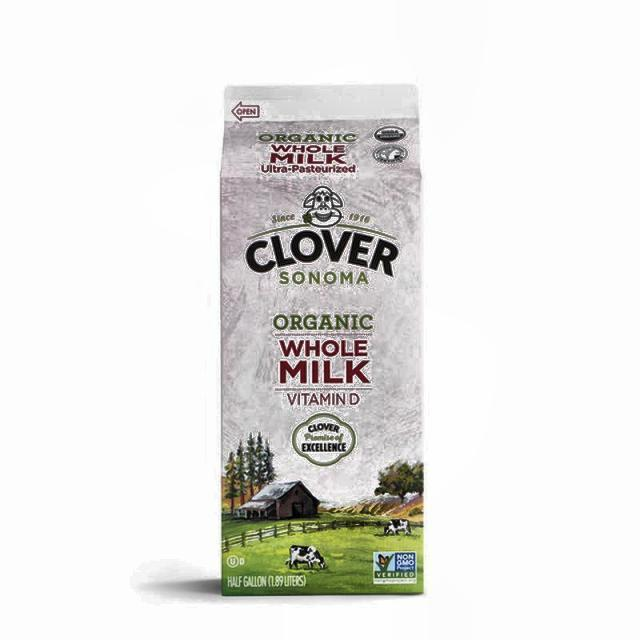cardboard: (218, 84, 424, 595)
